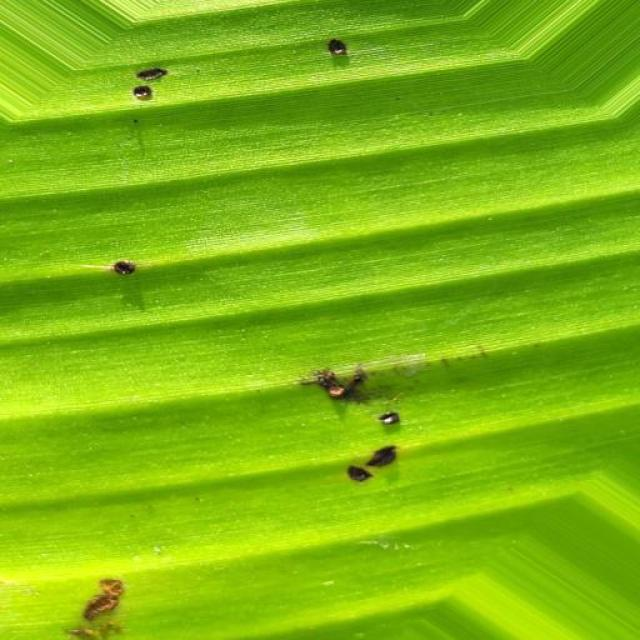Black_rot: (275, 363, 420, 492), (56, 564, 188, 640), (109, 50, 200, 138), (300, 19, 403, 84), (103, 250, 183, 319)
